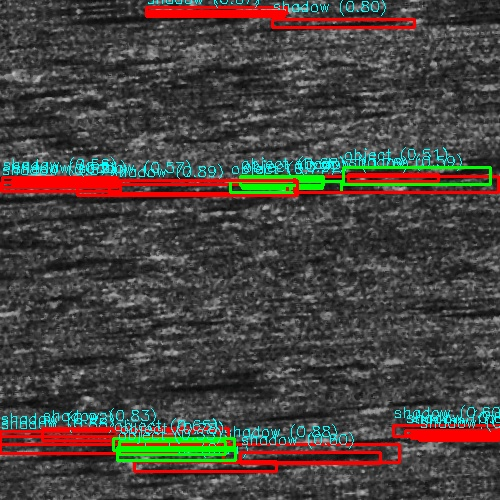rock: (93, 450, 156, 465), (0, 171, 80, 182), (171, 183, 264, 192), (181, 461, 264, 470), (349, 175, 432, 184), (294, 437, 367, 446), (240, 428, 303, 437), (34, 24, 107, 31), (72, 189, 113, 198), (185, 6, 238, 11), (0, 433, 16, 438)
shadow: (125, 450, 261, 465), (272, 428, 451, 437), (218, 183, 395, 192), (331, 437, 500, 446), (93, 189, 257, 198), (39, 171, 171, 182), (223, 461, 370, 470), (391, 175, 500, 184), (71, 24, 206, 31), (212, 6, 359, 11), (0, 433, 90, 438), (0, 323, 22, 332)
